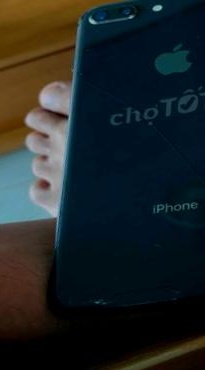physical_damage: (58, 30, 205, 255), (59, 255, 205, 327)
scratch: (69, 0, 143, 31)
